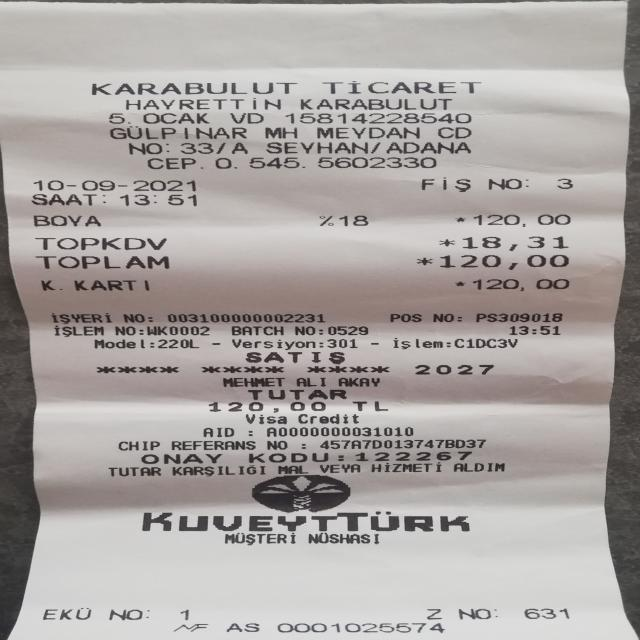text: (142, 509, 468, 533), (91, 81, 295, 94), (440, 252, 568, 270), (32, 178, 194, 192), (35, 253, 168, 270), (320, 80, 480, 94), (284, 112, 470, 124), (125, 96, 280, 110), (300, 96, 451, 110), (34, 236, 166, 252), (277, 622, 443, 634), (167, 312, 323, 324), (109, 125, 246, 138), (266, 425, 413, 437), (461, 235, 566, 251), (318, 438, 485, 448), (474, 212, 570, 228), (317, 156, 435, 168), (210, 400, 327, 412), (264, 140, 360, 154), (316, 125, 418, 138), (245, 351, 344, 364), (354, 450, 471, 461), (120, 192, 196, 208), (386, 140, 470, 154), (170, 464, 264, 476), (475, 311, 561, 324), (247, 388, 345, 399), (415, 363, 493, 376), (31, 192, 96, 207), (140, 452, 221, 464), (231, 338, 311, 350), (247, 451, 327, 463), (32, 214, 100, 228), (170, 439, 254, 450), (74, 278, 149, 290), (369, 462, 442, 474), (143, 111, 210, 124), (223, 532, 295, 544), (419, 176, 468, 192), (149, 324, 208, 337), (308, 532, 377, 543), (453, 337, 516, 349), (222, 376, 284, 388), (50, 312, 111, 324), (452, 460, 504, 473), (297, 413, 358, 424), (93, 338, 147, 350), (230, 324, 282, 336), (108, 466, 160, 478), (42, 607, 90, 620), (508, 324, 559, 336), (392, 337, 443, 349), (248, 156, 295, 169), (52, 325, 102, 337), (145, 157, 194, 169), (522, 608, 568, 620), (327, 324, 367, 337), (486, 176, 518, 192), (321, 462, 363, 474), (338, 376, 378, 388), (245, 413, 285, 424), (162, 338, 198, 350), (352, 399, 385, 412), (264, 125, 296, 138), (438, 125, 470, 138), (388, 311, 420, 324), (179, 141, 210, 154), (202, 425, 233, 438), (118, 440, 158, 450), (230, 112, 263, 124), (277, 463, 310, 475), (226, 622, 258, 634), (458, 608, 492, 619), (172, 622, 208, 632), (296, 376, 324, 388), (338, 215, 367, 226), (329, 337, 355, 349), (110, 608, 136, 620), (416, 252, 432, 270), (214, 156, 236, 169), (122, 312, 144, 325), (293, 324, 316, 336), (108, 112, 130, 124), (432, 311, 452, 324), (556, 175, 571, 192), (438, 235, 453, 251), (41, 278, 61, 290), (114, 325, 134, 337), (266, 439, 286, 450), (454, 213, 467, 228), (425, 608, 441, 620), (318, 215, 331, 226), (371, 140, 381, 154), (454, 278, 464, 292), (522, 175, 530, 192), (96, 192, 104, 207), (217, 141, 226, 154), (237, 141, 246, 154), (160, 142, 169, 154), (179, 608, 188, 620), (211, 338, 219, 350), (140, 324, 147, 337), (317, 337, 324, 349), (370, 337, 377, 349), (455, 311, 461, 324), (337, 450, 343, 463), (316, 324, 322, 336), (150, 338, 156, 350), (146, 312, 151, 324), (247, 426, 251, 438), (300, 438, 304, 449), (200, 156, 202, 169)
